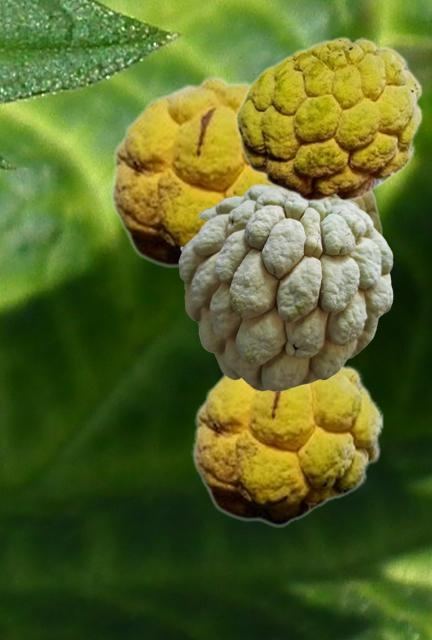atis: (178, 184, 392, 390), (191, 362, 383, 526), (234, 36, 422, 201), (109, 75, 264, 271), (355, 191, 381, 233)
